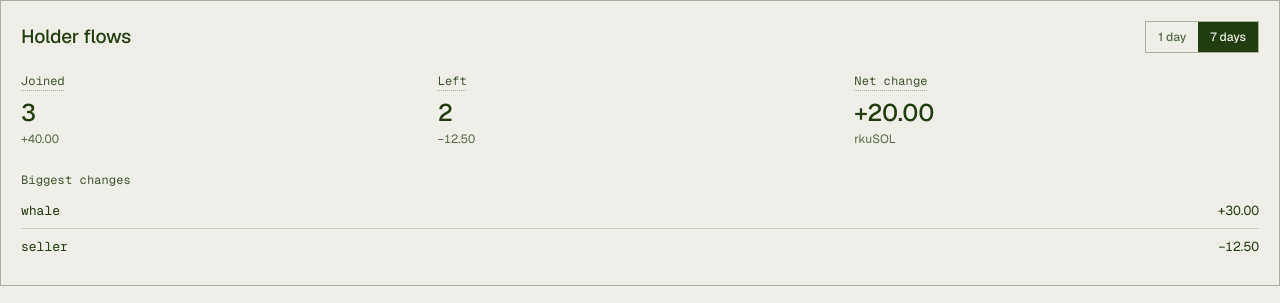
Scenario: holder flows › shows the 7-day view by default and switches to 1 day
Expected: the text "−12.50" is shown 2 times, x1=438 y1=131 x2=475 y2=147; x1=1218 y1=237 x2=1259 y2=257
Expected: the link "seller" is shown, x1=21 y1=238 x2=68 y2=255
Click the button "1 day" at x=1172, y=37, box x1=1146 y1=22 x2=1198 y2=52
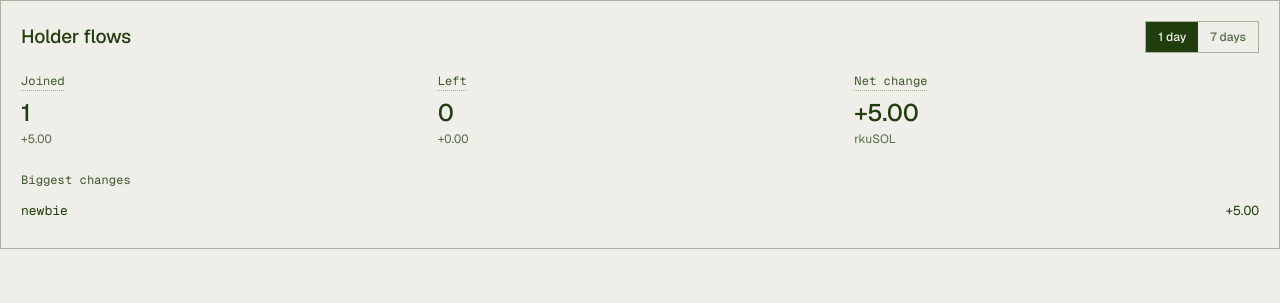
Expected: the link "newbie" is shown, x1=21 y1=202 x2=68 y2=219
Expected: the link "seller" is gone
